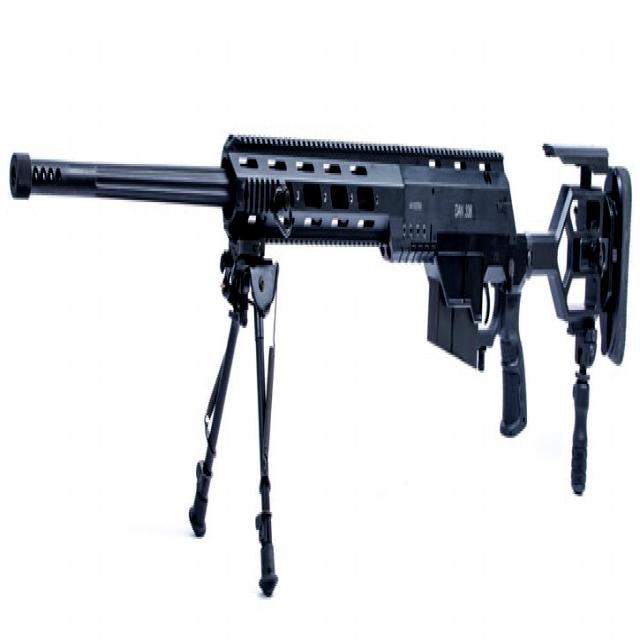rifle: (6, 80, 634, 450)
